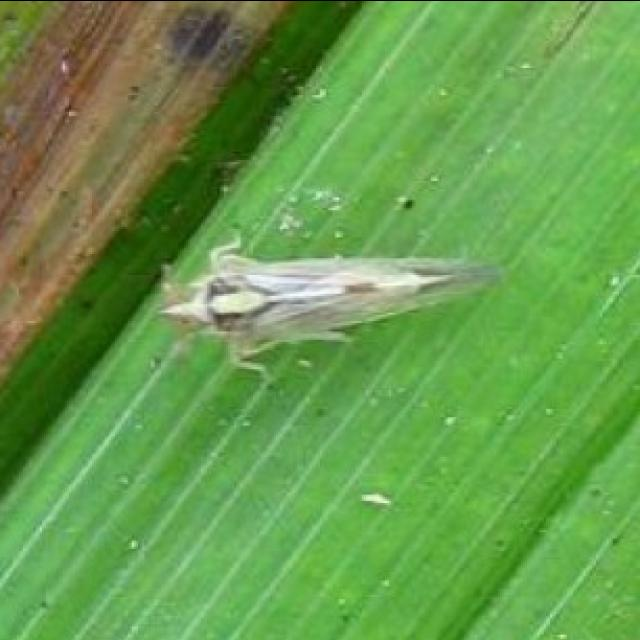brown plant hopper: (159, 238, 498, 372)
